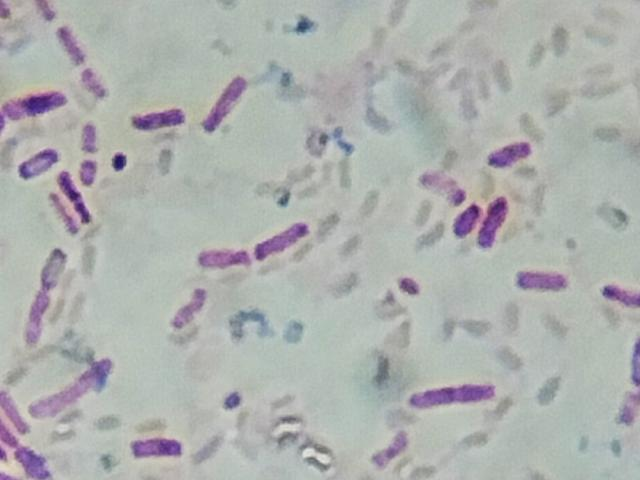E. coli: (32, 359, 120, 418), (408, 379, 501, 417), (258, 209, 313, 262), (52, 169, 95, 234), (203, 70, 244, 135), (512, 262, 574, 301), (161, 287, 210, 335), (6, 86, 70, 118), (371, 426, 413, 470), (482, 195, 510, 254), (129, 434, 184, 461), (602, 275, 640, 314), (198, 243, 249, 270), (135, 103, 178, 133), (488, 135, 528, 167), (23, 290, 48, 341), (419, 170, 461, 199), (453, 197, 480, 238), (18, 146, 54, 175), (41, 250, 68, 286), (1, 387, 24, 429), (57, 23, 79, 65), (19, 450, 52, 478), (79, 153, 96, 187), (81, 119, 97, 151), (82, 70, 102, 94), (0, 420, 17, 446), (36, 0, 55, 22)
